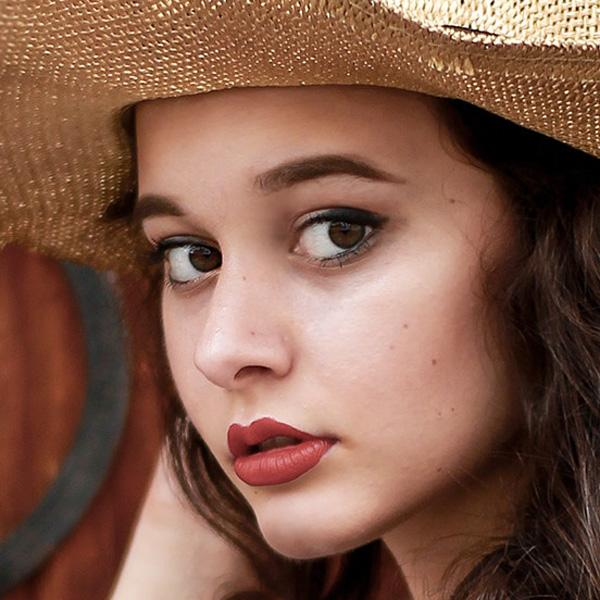Eyes: (276, 199, 393, 277), (155, 228, 231, 300)
